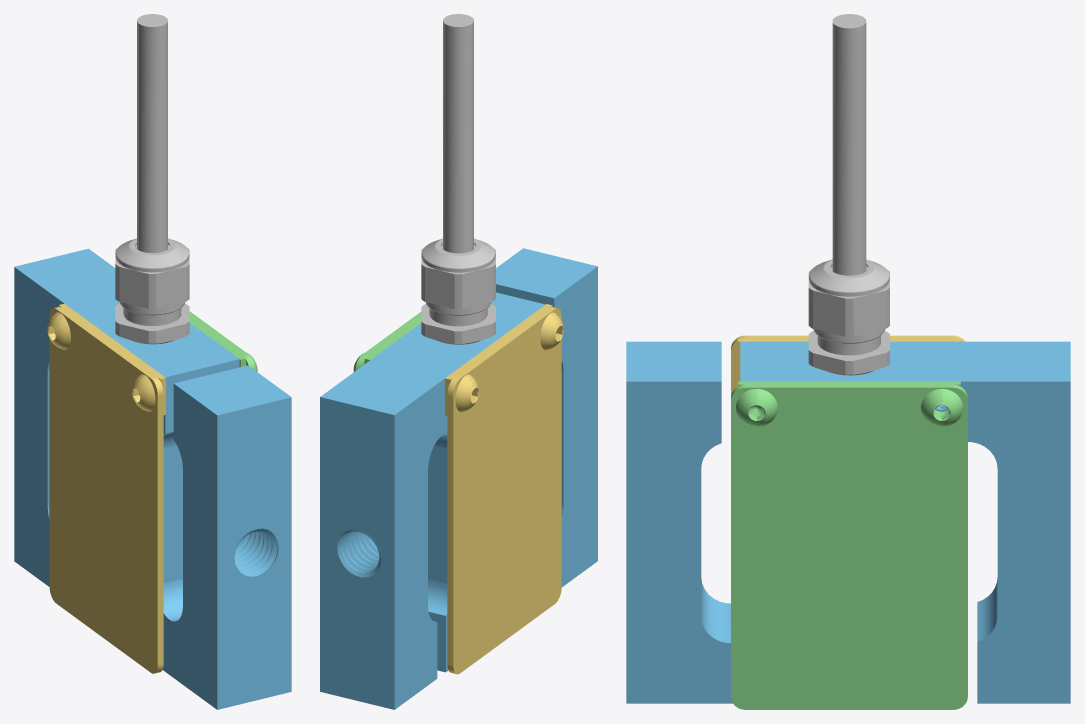
Rendered from 2f28dae3-aabf-4a3d-88cc-683eecd06f61.glb.
3 views of the same model, side by side, from view 1: azimuth 30°, elevation 25°; view 2: azimuth 150°, elevation 25°; view 3: azimuth 270°, elevation 25° (orthographic). The views are drawn at different scales.
Visible parts, largest first — view 1: DBBSM 2kg to 25kg body:1, DBBSM 2kg-1000kg cover Component v1:2, SOLID, DBBSM 2kg-1000kg cover Component v1:1; view 2: DBBSM 2kg to 25kg body:1, DBBSM 2kg-1000kg cover Component v1:2, SOLID, DBBSM 2kg-1000kg cover Component v1:1; view 3: DBBSM 2kg-1000kg cover Component v1:1, DBBSM 2kg to 25kg body:1, SOLID, DBBSM 2kg-1000kg cover Component v1:2.
Part boxes in pixels (x1,y1,x2,y2): DBBSM 2kg to 25kg body:1: (14, 248, 291, 709); DBBSM 2kg-1000kg cover Component v1:2: (47, 303, 165, 673); SOLID: (115, 14, 189, 344); DBBSM 2kg-1000kg cover Component v1:1: (189, 311, 257, 371); DBBSM 2kg to 25kg body:1: (320, 248, 597, 709); DBBSM 2kg-1000kg cover Component v1:2: (445, 304, 563, 674); SOLID: (421, 14, 495, 344); DBBSM 2kg-1000kg cover Component v1:1: (353, 312, 421, 371); DBBSM 2kg-1000kg cover Component v1:1: (731, 381, 967, 709); DBBSM 2kg to 25kg body:1: (626, 341, 1070, 703); SOLID: (808, 14, 889, 375); DBBSM 2kg-1000kg cover Component v1:2: (731, 335, 964, 395).
Bounding box in the file's own units: 20 × 98.71 × 60.
